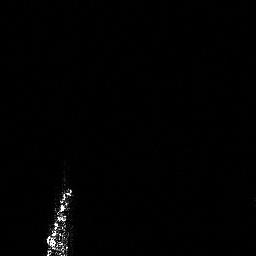ship: (45, 186, 71, 256)
